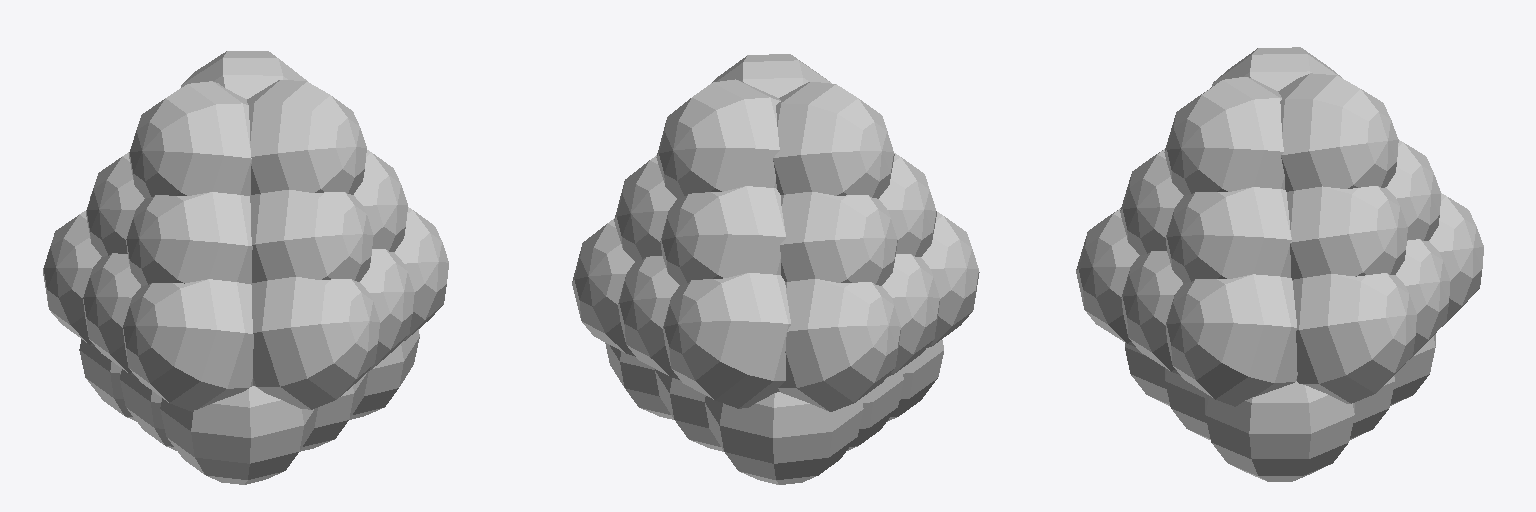
The model's file is landing_balloon.obj.
3 renders of one model, left to right at view 1: azimuth 30°, elevation 25°; view 2: azimuth 150°, elevation 25°; view 3: azimuth 270°, elevation 25°, orthographic.
Visible parts, largest first — view 1: Sphere; view 2: Sphere; view 3: Sphere.
Boxes of the visible parts, <box> form: Sphere: <box>43,51,448,484</box>; Sphere: <box>572,54,979,484</box>; Sphere: <box>1076,47,1483,481</box>.
Size of the model in its own units: 4.67 by 4.87 by 5.05.